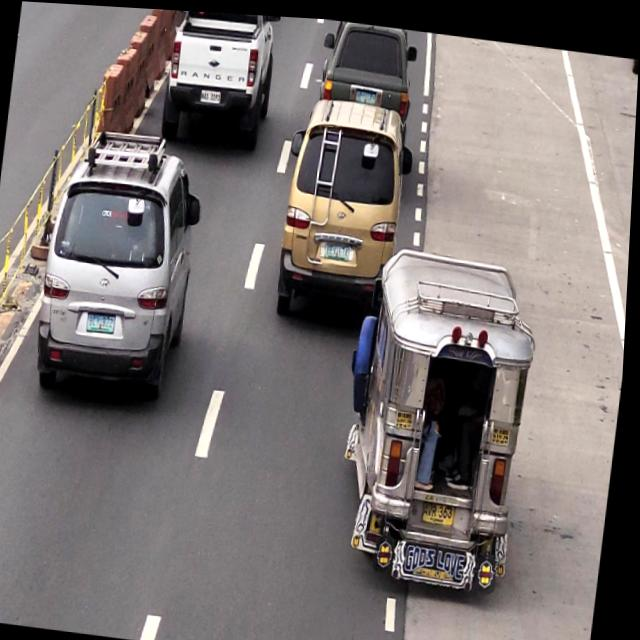Car: (29, 123, 210, 403), (277, 90, 408, 311), (165, 8, 276, 144), (321, 16, 416, 97)
Jeep: (351, 241, 541, 570)
License-Plate: (426, 490, 463, 520), (89, 308, 118, 337), (324, 236, 356, 258), (200, 83, 223, 102)
